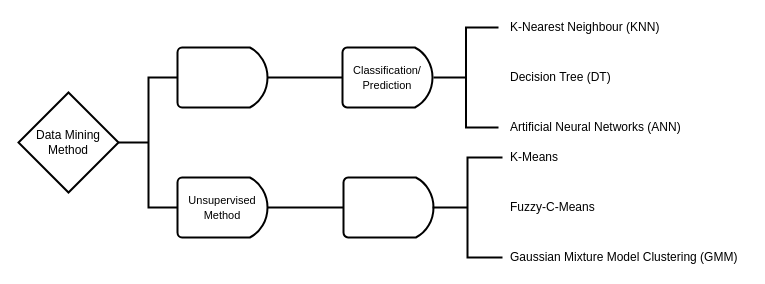
Image size: 765x284. Some labels were removed from this diagram. The shapes that lost their labels are listed below. From the top down, each one's centre as x and y in pixels, then its label:
At [222,77]: "Supervised Method".
At [388,207]: "Clustering".
